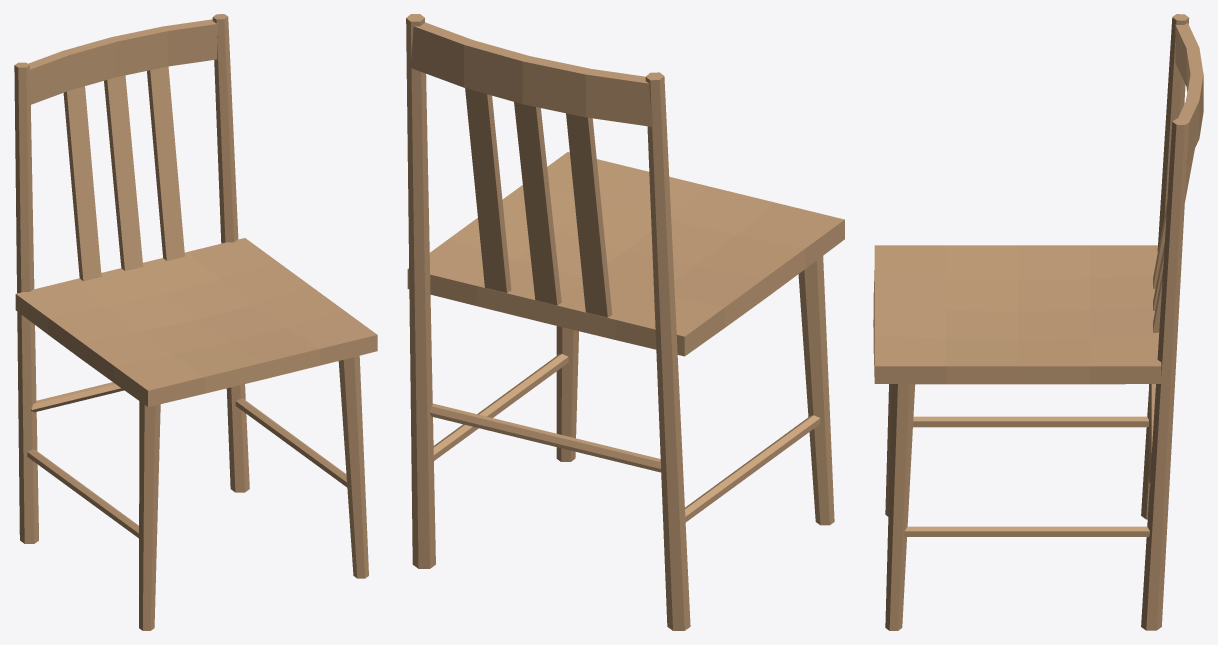
File: mi_chair.glb
3 views of the same model, side by side, from view 1: azimuth 30°, elevation 25°; view 2: azimuth 150°, elevation 25°; view 3: azimuth 270°, elevation 25° (orthographic). The views are drawn at different scales.
Visible parts, largest first — view 1: SM_Kitchen_DiningChair; view 2: SM_Kitchen_DiningChair; view 3: SM_Kitchen_DiningChair.
Part boxes in pixels (x1,y1,x2,y2): SM_Kitchen_DiningChair: (14, 14, 377, 630); SM_Kitchen_DiningChair: (406, 14, 844, 630); SM_Kitchen_DiningChair: (873, 14, 1203, 630).
Bounding box in the file's own units: 0.4438 × 0.8507 × 0.5069.
Materials: 1 (1 with a texture image).
